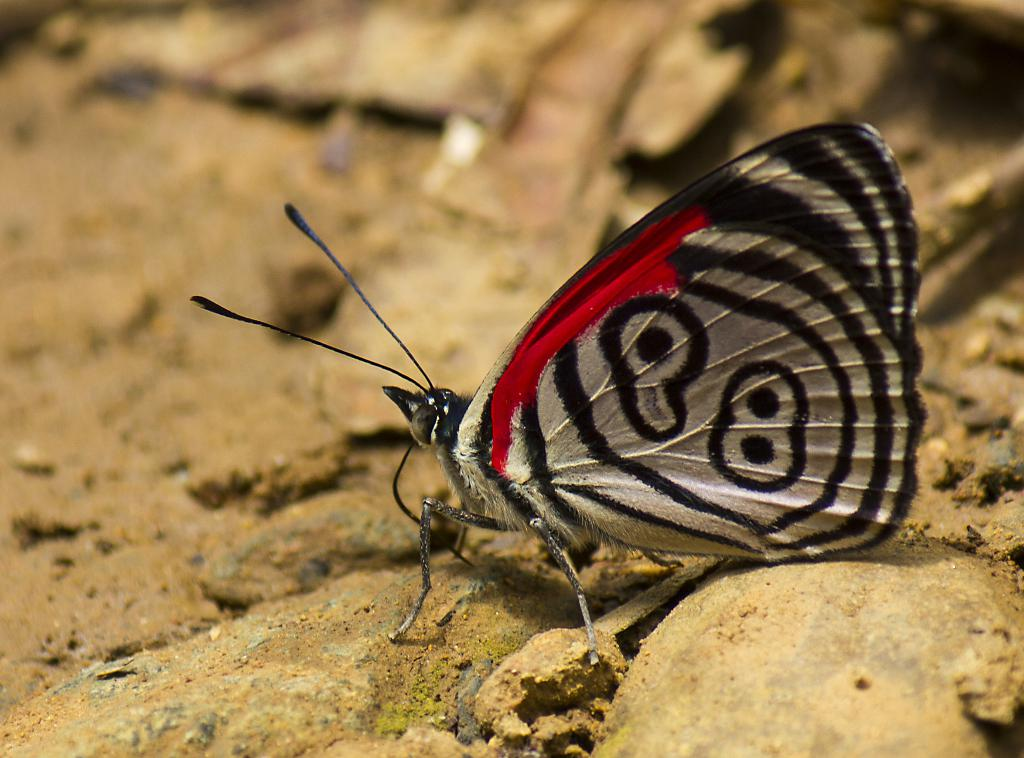Butterfly: (173, 110, 939, 644)
